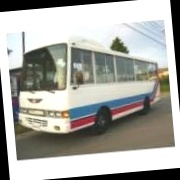bus: (13, 27, 166, 141)
